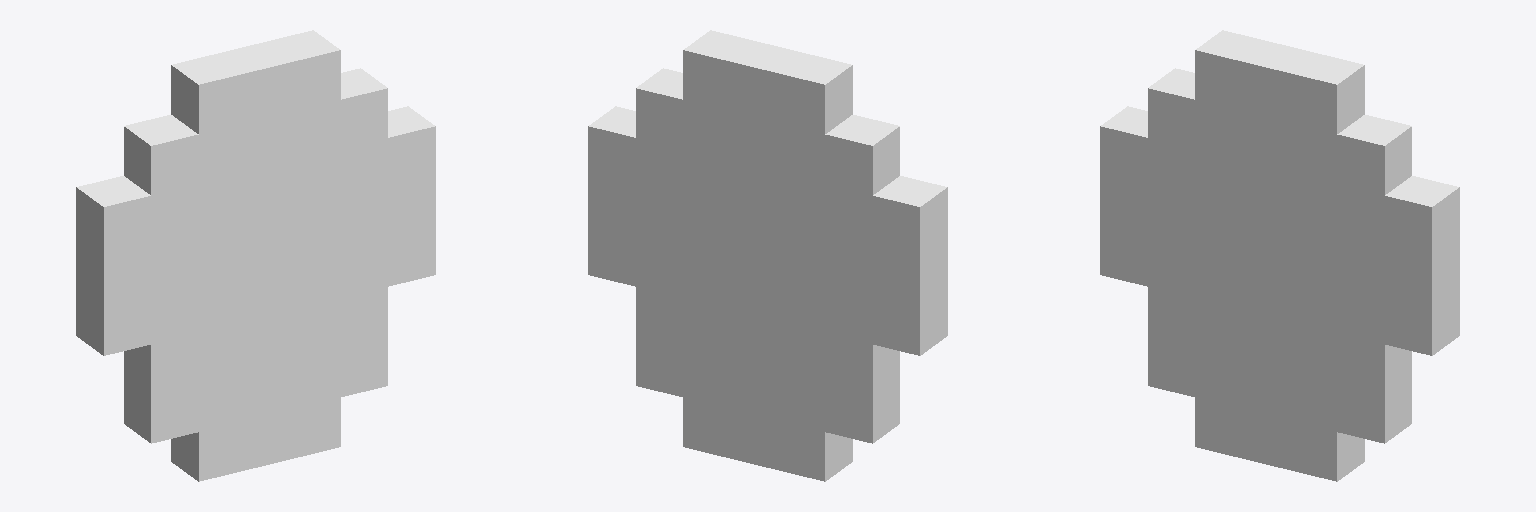
File: Enemy.obj
3 views of the same model, side by side, from view 1: azimuth 30°, elevation 25°; view 2: azimuth 150°, elevation 25°; view 3: azimuth 330°, elevation 25° (orthographic).
Parts seen in each view (by area): view 1: object 2; view 2: object 2; view 3: object 2.
Part boxes in pixels (x1,y1,x2,y2): object 2: (76, 30, 435, 481); object 2: (588, 30, 947, 481); object 2: (1100, 30, 1459, 481).
Bounding box in the file's own units: 0.7 × 0.8 × 0.1.